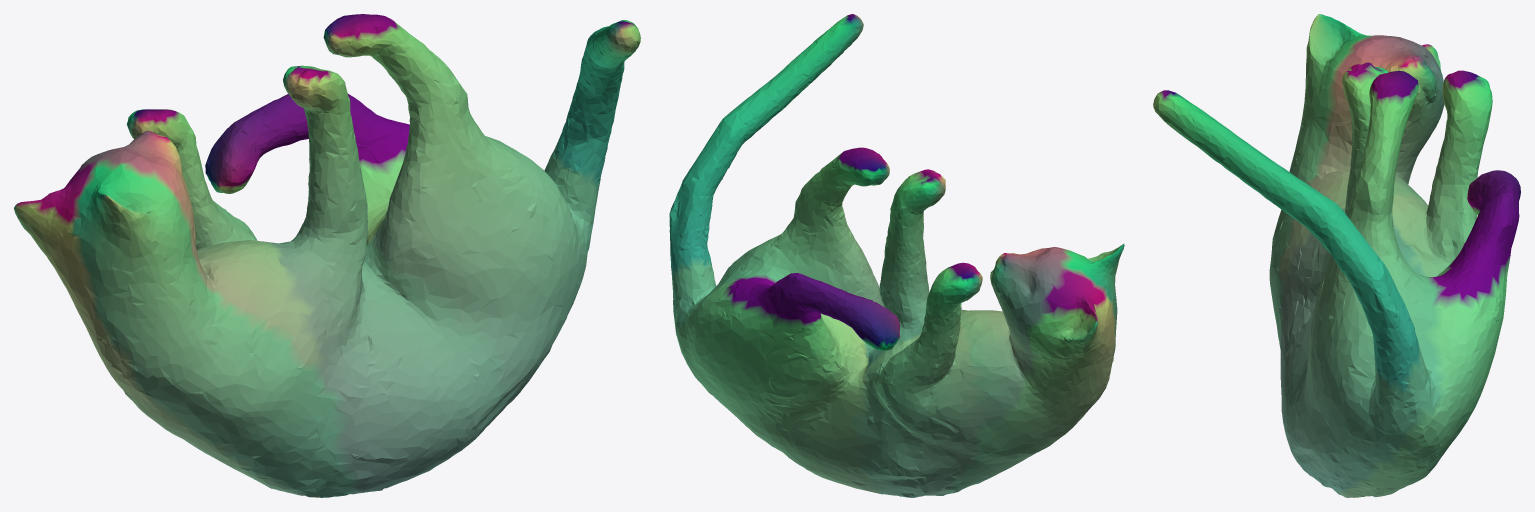
The model's file is cat-3.off.obj.
3 renders of one model, left to right at view 1: azimuth 30°, elevation 25°; view 2: azimuth 150°, elevation 25°; view 3: azimuth 270°, elevation 25°, orthographic. The views are drawn at different scales.
Bounding box in the file's own units: 1.39 × 1.15 × 0.8484.
